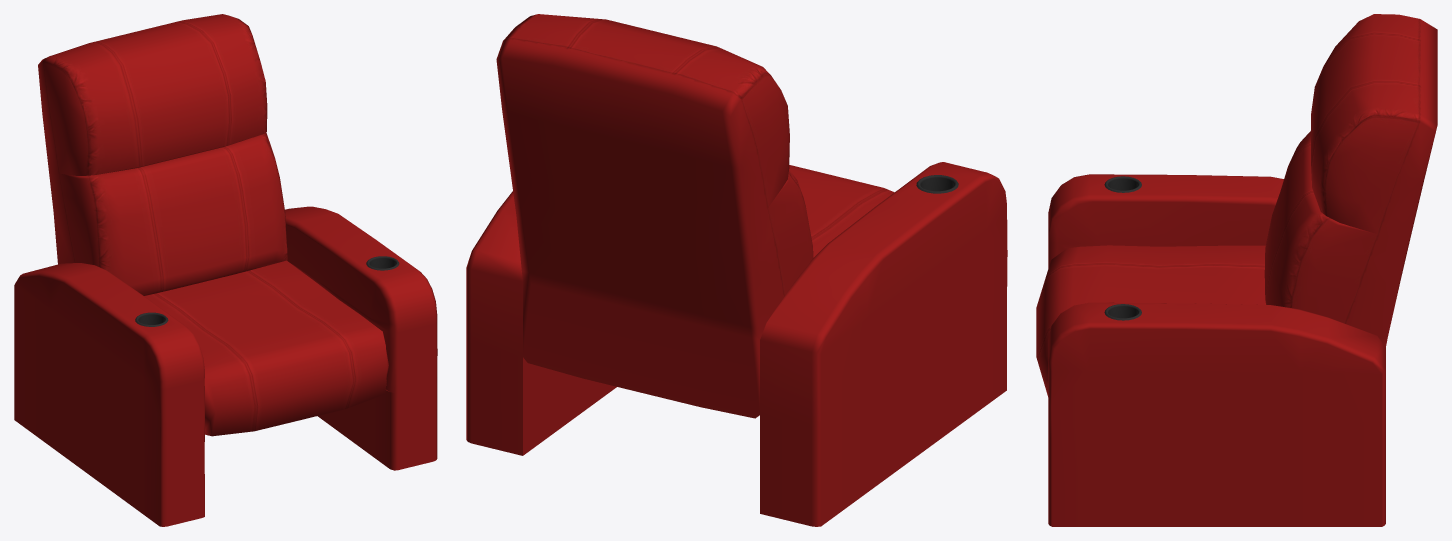
Rendered from CinemaSeat.glb.
3 renders of one model, left to right at view 1: azimuth 30°, elevation 25°; view 2: azimuth 150°, elevation 25°; view 3: azimuth 270°, elevation 25°, orthographic. The views are drawn at different scales.
Visible parts, largest first — view 1: CinemaSeat, Armrest; view 2: CinemaSeat, Armrest; view 3: CinemaSeat, Armrest.
Boxes of the visible parts, x1=… form: CinemaSeat: x1=38, y1=14, x2=437, y2=470; Armrest: x1=14, y1=263, x2=204, y2=526; CinemaSeat: x1=466, y1=14, x2=894, y2=455; Armrest: x1=760, y1=162, x2=1007, y2=526; CinemaSeat: x1=1036, y1=14, x2=1437, y2=526; Armrest: x1=1048, y1=174, x2=1283, y2=268.
Bounding box in the file's own units: 86.89 × 104 × 96.23.
1 material, 1 textured.
